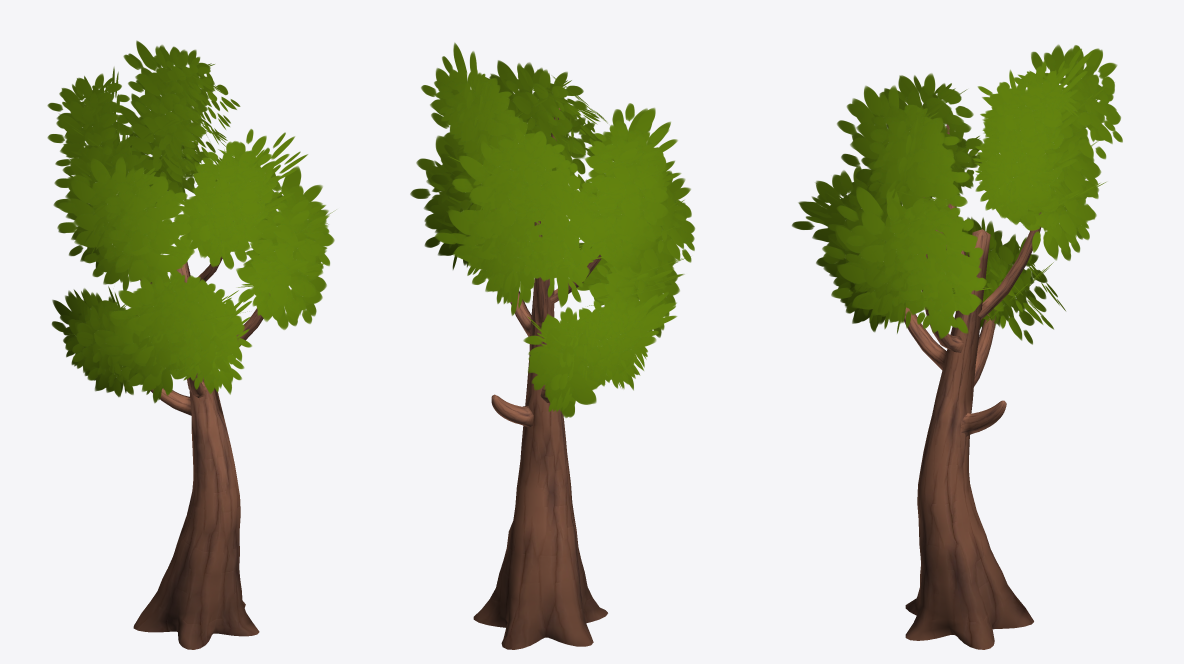
Rendered from n_tree5.glb.
The picture shows the model from 3 angles, left to right: view 1: azimuth 30°, elevation 25°; view 2: azimuth 150°, elevation 25°; view 3: azimuth 270°, elevation 25°; orthographic projection. The views are drawn at different scales.
Visible parts, largest first — view 1: CommonTree_5; view 2: CommonTree_5; view 3: CommonTree_5.
Part boxes in pixels (x1=…): CommonTree_5: x1=47, y1=40, x2=335, y2=649; CommonTree_5: x1=410, y1=42, x2=694, y2=649; CommonTree_5: x1=792, y1=44, x2=1122, y2=649.
Size of the model in its own units: 3.67 by 7.01 by 4.22.
2 materials, 2 textured.
